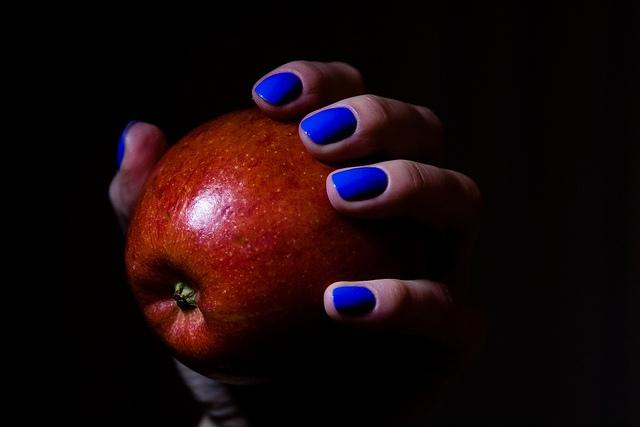apple: (124, 106, 433, 386)
